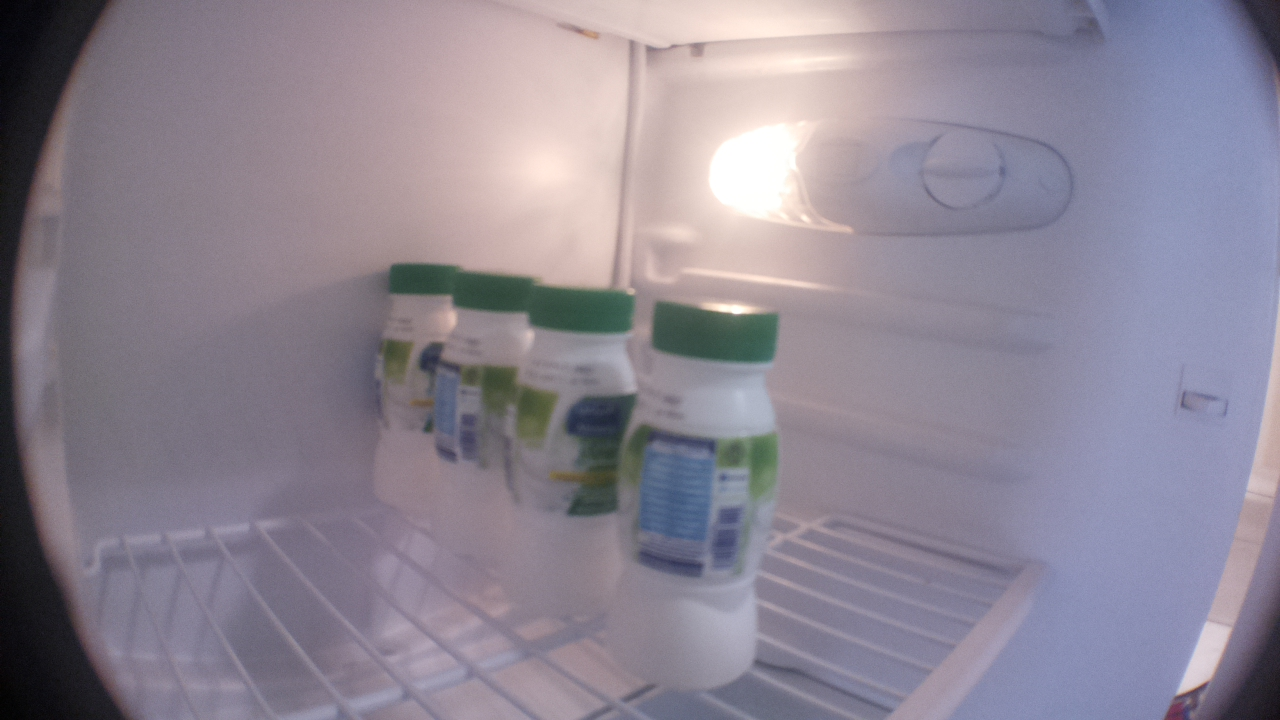laban: (617, 296, 785, 687), (505, 275, 634, 609), (423, 262, 529, 552), (371, 257, 455, 521)
